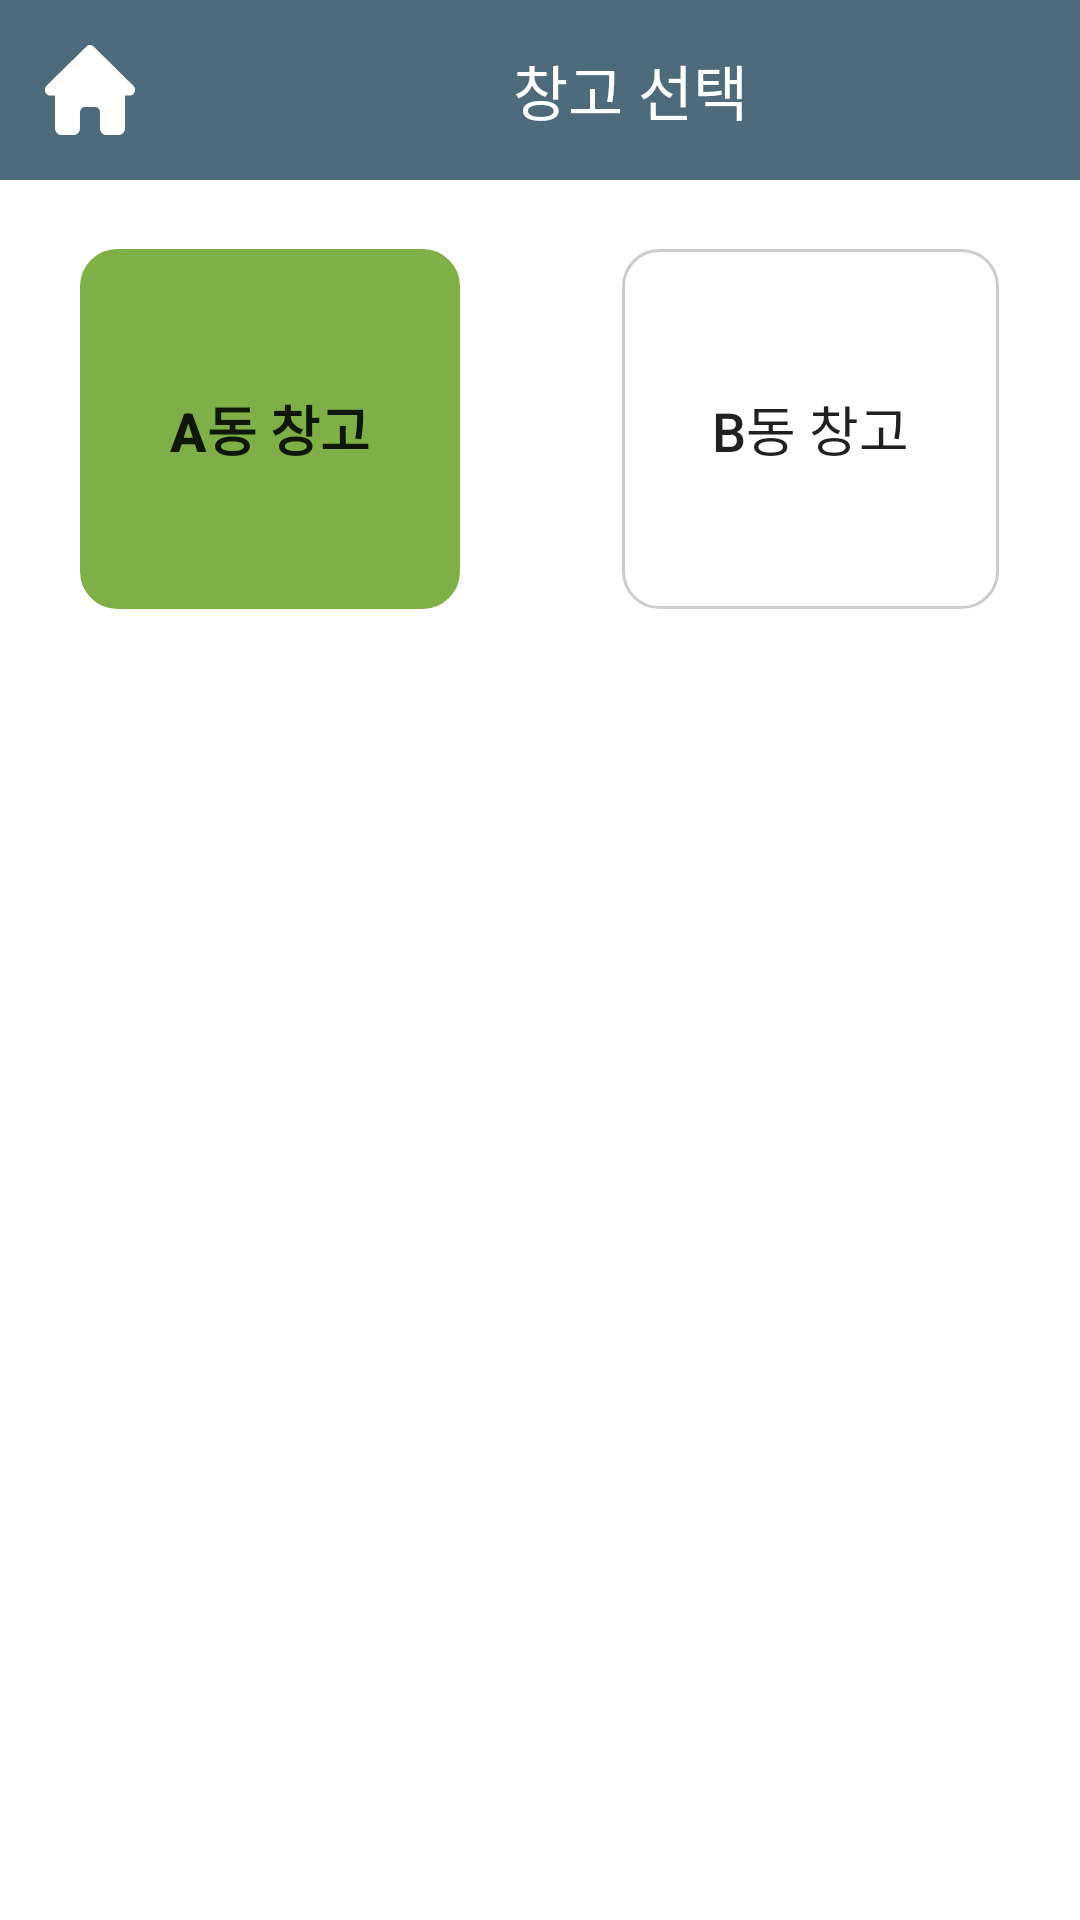

Icons on this 1080×1920 Android screen, each with its box as {"left": x1, "top": y1, "right": x2, "bottom": y2}:
house: {"left": 45, "top": 45, "right": 135, "bottom": 135}
